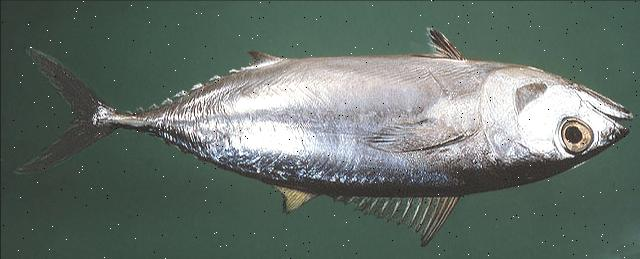Mulut: (588, 86, 636, 148)
Sirip Anal: (229, 44, 281, 80)
Sirip Dada: (354, 115, 462, 155)
Sirip Ekor: (10, 39, 110, 179)
Sirip Perut: (402, 19, 472, 69)
Sirip Punggung: (269, 184, 457, 250)
